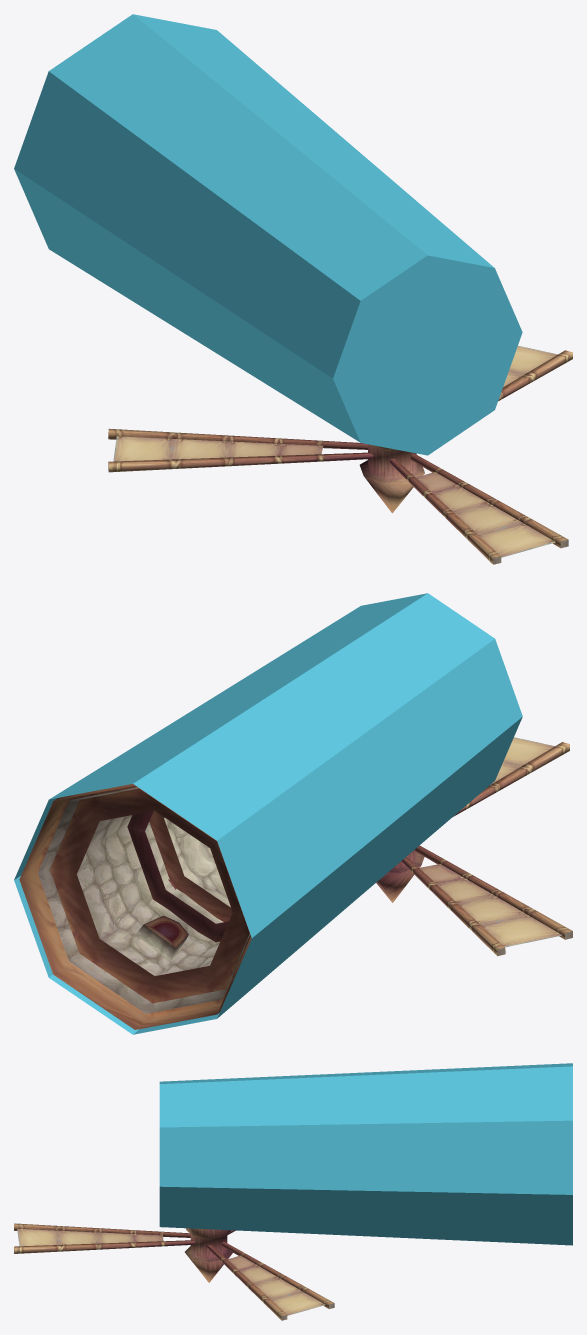
3 views of the same model, one above another, from view 1: azimuth 30°, elevation 25°; view 2: azimuth 150°, elevation 25°; view 3: azimuth 270°, elevation 25° (orthographic). The views are drawn at different scales.
Parts seen in each view (by area): view 1: truewall, "Editable Mesh"; view 2: truewall, UA040, "Editable Mesh"; view 3: truewall, "Editable Mesh".
Boxes of the visible parts, x1,y1,x2,y2 form: truewall: [14, 14, 522, 455]; "Editable Mesh": [108, 345, 572, 564]; truewall: [14, 593, 522, 1034]; UA040: [19, 784, 251, 1029]; "Editable Mesh": [376, 737, 572, 956]; truewall: [159, 1063, 572, 1245]; "Editable Mesh": [14, 1223, 334, 1320].
Bounding box in the file's own units: 22.25 × 14.17 × 33.1.
